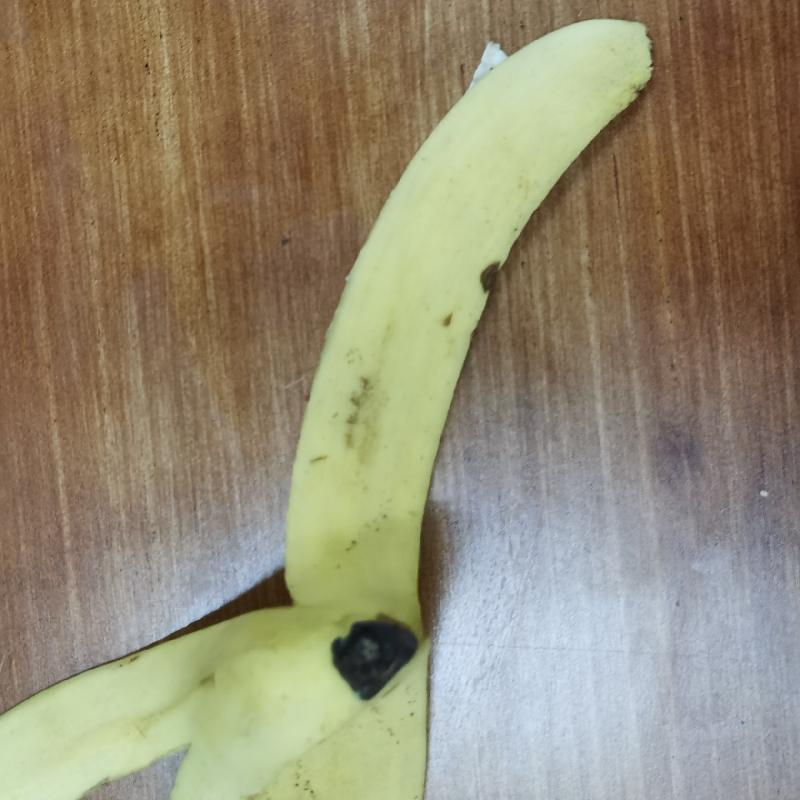bananas: (6, 16, 653, 800)
